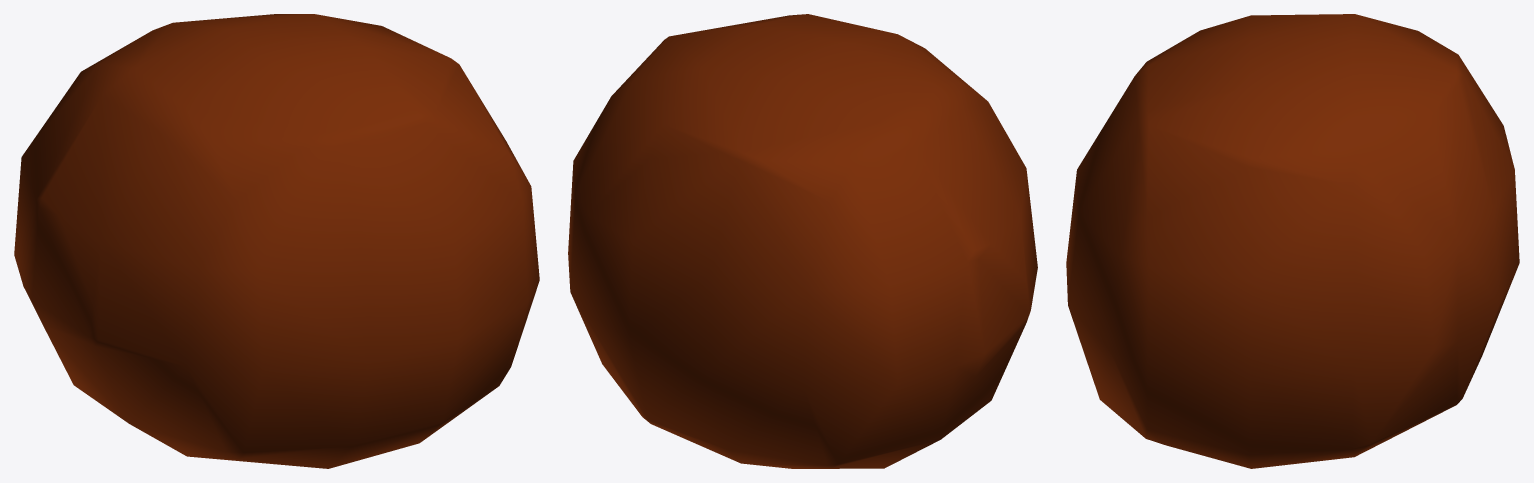
File: iso_0.1_draco.glb
3 views of the same model, side by side, from view 1: azimuth 30°, elevation 25°; view 2: azimuth 150°, elevation 25°; view 3: azimuth 270°, elevation 25° (orthographic).
Parts seen in each view (by area): view 1: Renderer Node; view 2: Renderer Node; view 3: Renderer Node.
Boxes of the visible parts, x1,y1,x2,y2 form: Renderer Node: [14, 14, 539, 468]; Renderer Node: [568, 14, 1037, 468]; Renderer Node: [1066, 14, 1519, 468].
Size of the model in its own units: 1.54e+07 by 1.35e+07 by 1.43e+07.
1 material, 1 textured.
